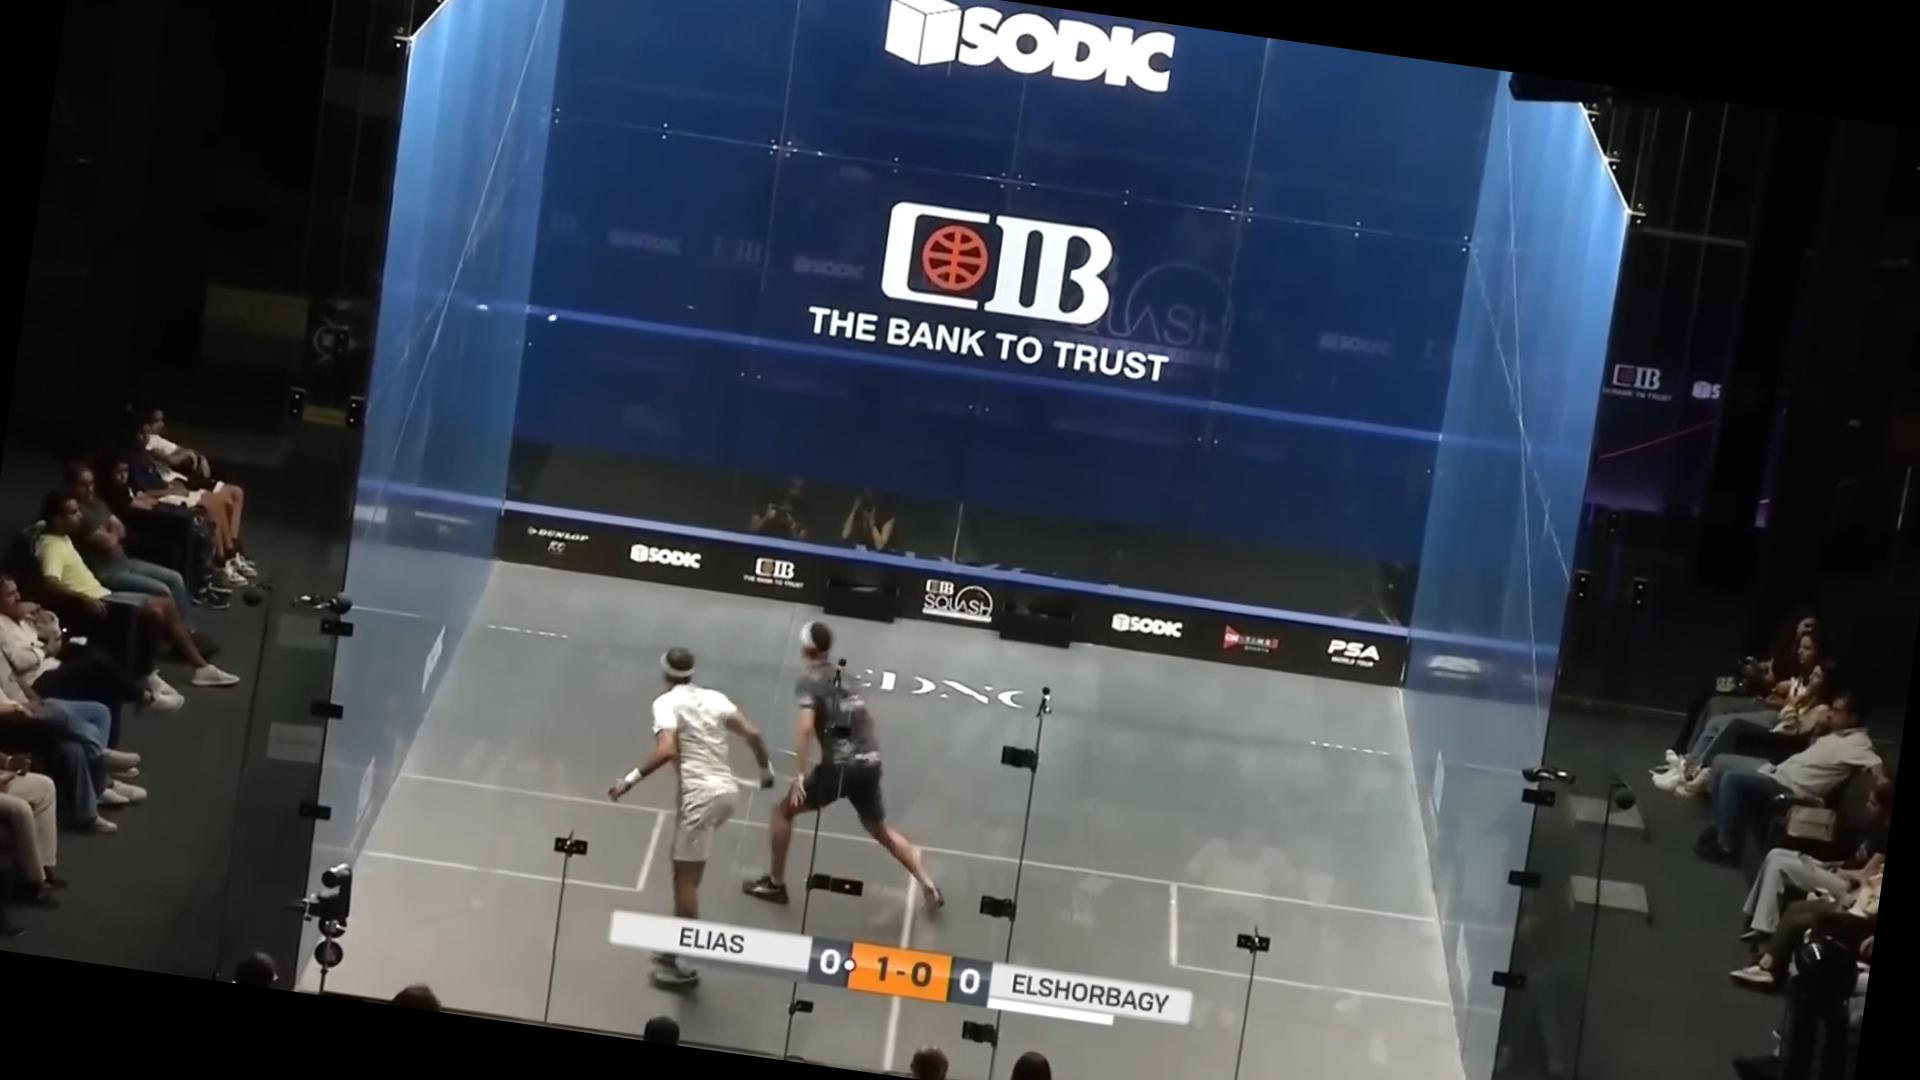Squash-Ball: (538, 299, 571, 334)
